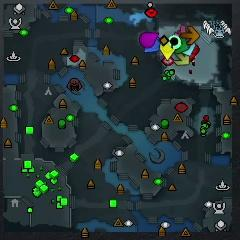p1: (143, 38, 162, 53)
p2Clone: (169, 34, 182, 49)
p3: (140, 32, 159, 47)
p4: (159, 40, 176, 60)
x1: (175, 24, 186, 36)
x2: (174, 52, 191, 66)
x3: (182, 43, 195, 55)
x4: (174, 36, 190, 54)
x5: (181, 26, 200, 45)
